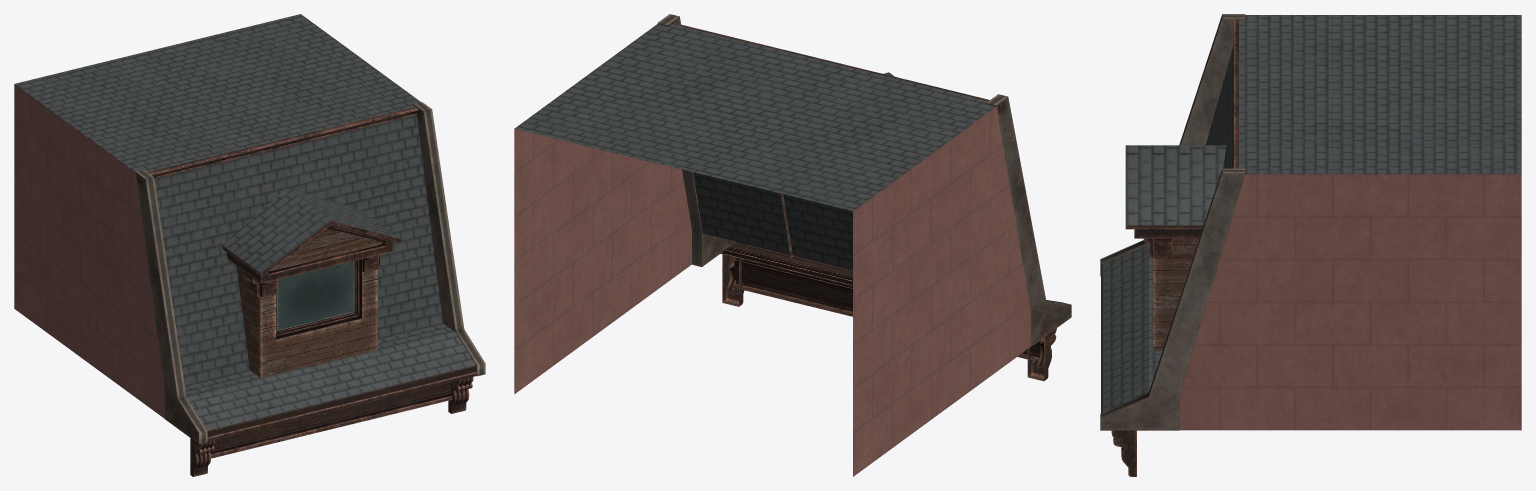
Rendered from House_04_Roof_01.fbx.
The picture shows the model from 3 angles, left to right: view 1: azimuth 30°, elevation 25°; view 2: azimuth 150°, elevation 25°; view 3: azimuth 270°, elevation 25°; orthographic projection. The views are drawn at different scales.
Parts seen in each view (by area): view 1: House_04_Roof_01_LOD0; view 2: House_04_Roof_01_LOD0; view 3: House_04_Roof_01_LOD0.
Part boxes in pixels (x1,y1,x2,y2): House_04_Roof_01_LOD0: (14, 14, 485, 476); House_04_Roof_01_LOD0: (514, 14, 1071, 476); House_04_Roof_01_LOD0: (1100, 14, 1521, 476).
Size of what is drawn, in the model's own units: 400 by 360 by 447.
